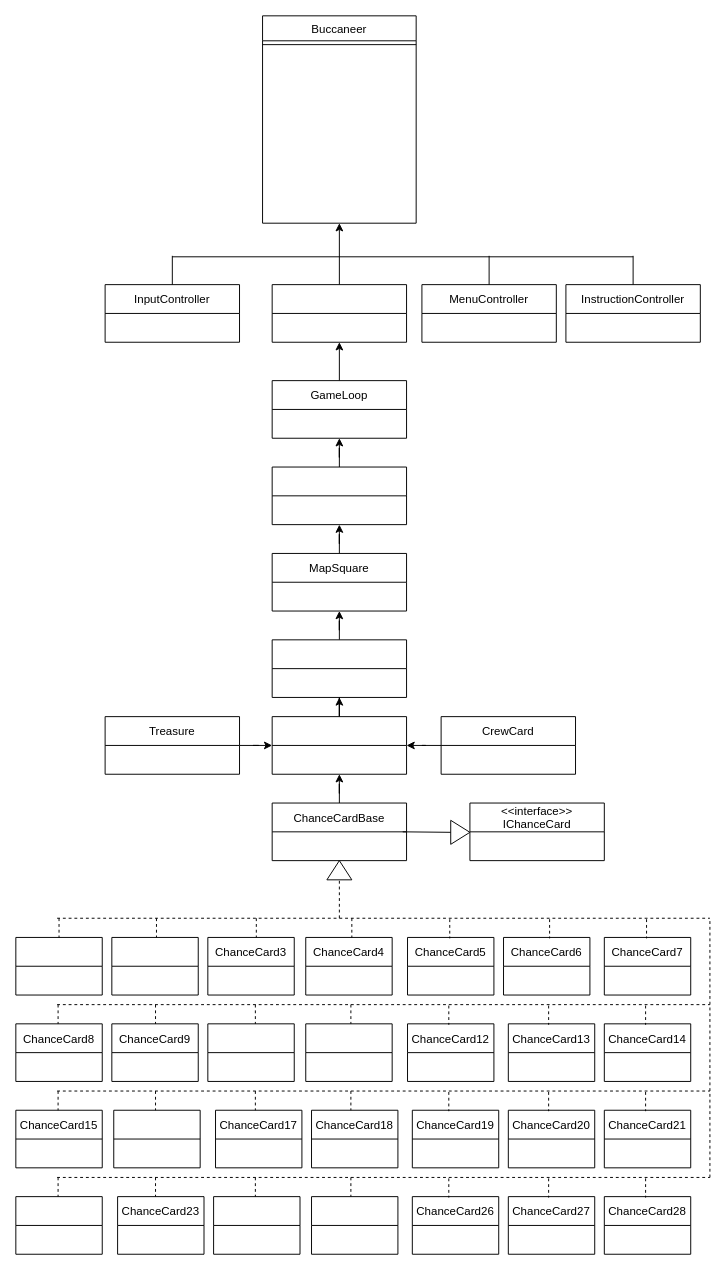
This 726x1270 diagram has some shape labels left out. The shapes that lost their labels are listed below. From the top down, each one's centre as x and y in pixels, then its label:
point (339, 313): BoardController
point (339, 495): ObjectLoader
point (339, 668): Island
point (339, 745): Ship
point (58, 965): ChanceCard1
point (154, 965): ChanceCard2
point (250, 1052): ChanceCard10
point (348, 1052): ChanceCard11
point (156, 1138): ChanceCard16
point (58, 1225): ChanceCard22
point (256, 1225): ChanceCard24
point (354, 1225): ChanceCard25
